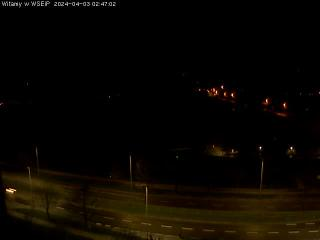car: (1, 186, 19, 198)
